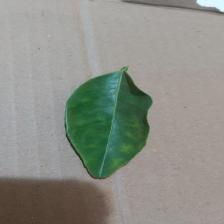greening: (53, 62, 164, 183)
